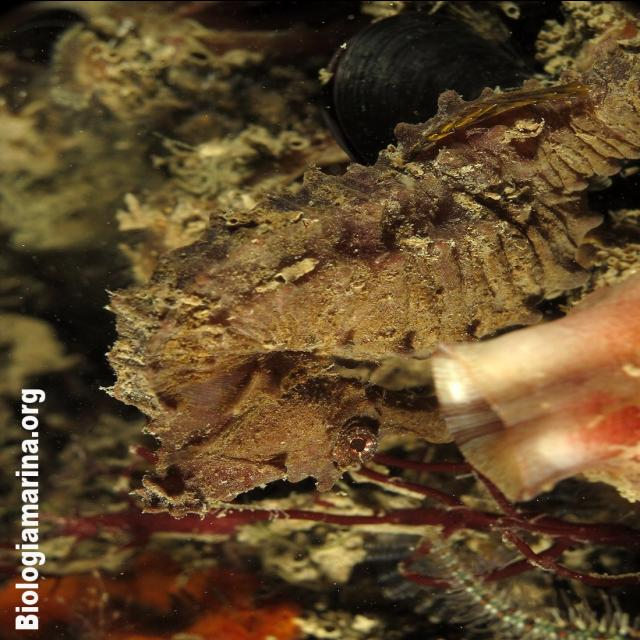Hippo: (130, 369, 473, 522)
